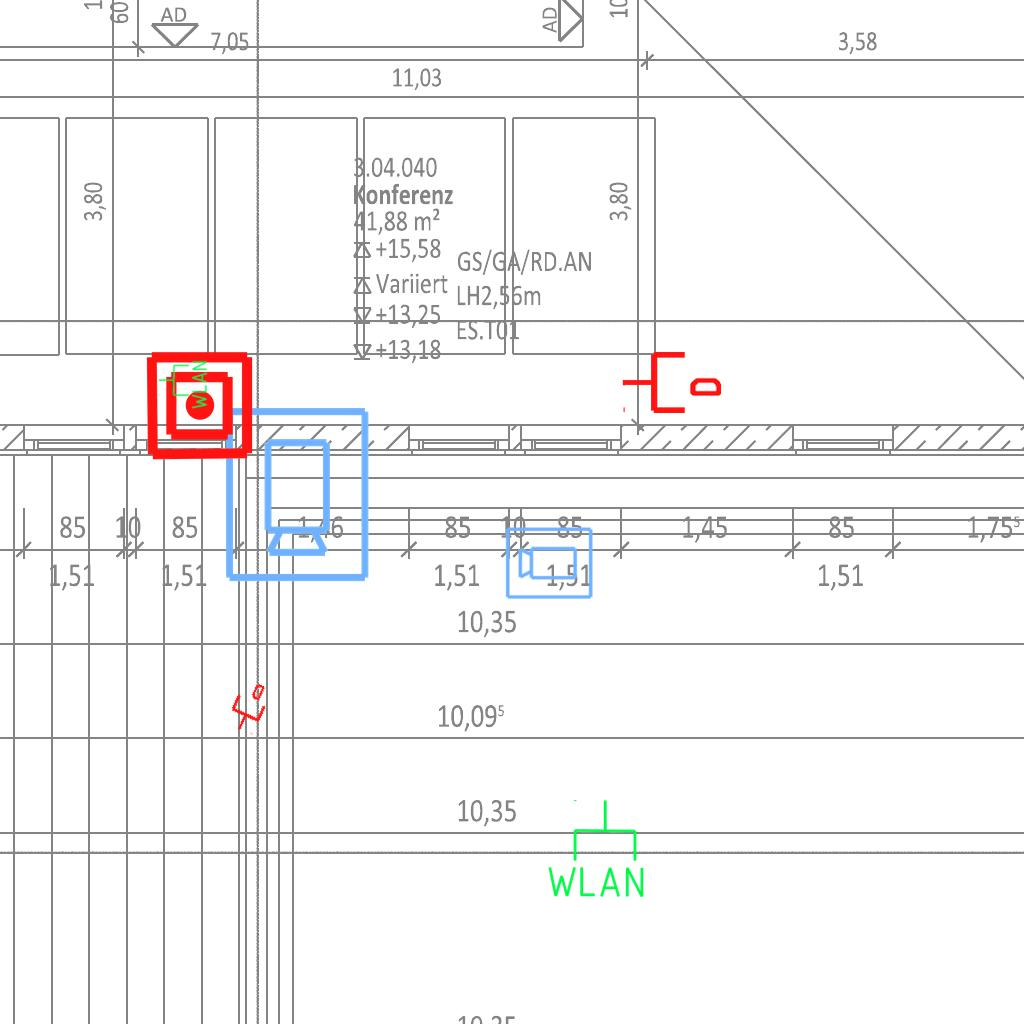Datenanschluss_einfach: (621, 348, 721, 417), (223, 677, 275, 737)
KFO_Kamera_mit_Festobjektiv: (219, 403, 373, 585), (504, 524, 595, 601)
NAM-Nichtautomatischer_Melder: (143, 349, 256, 462)
WLAN: (543, 797, 648, 901), (157, 359, 209, 411)
